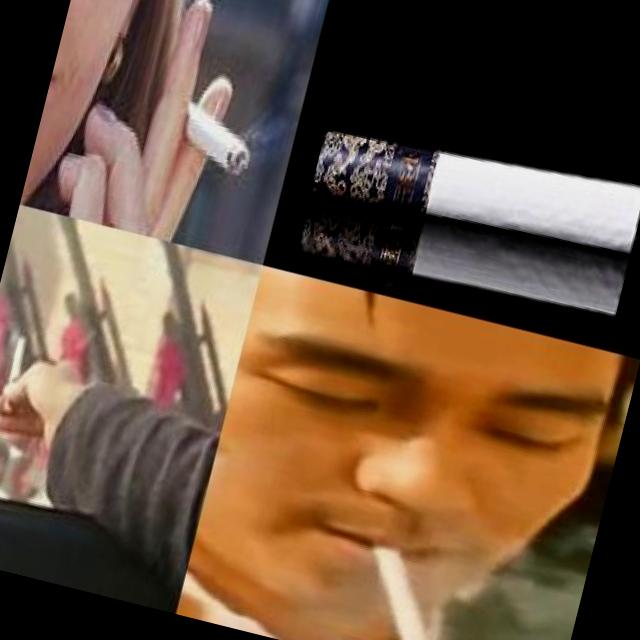cigarette: (309, 106, 640, 266), (296, 180, 630, 332), (347, 539, 461, 640), (175, 94, 266, 182), (4, 329, 32, 385)
